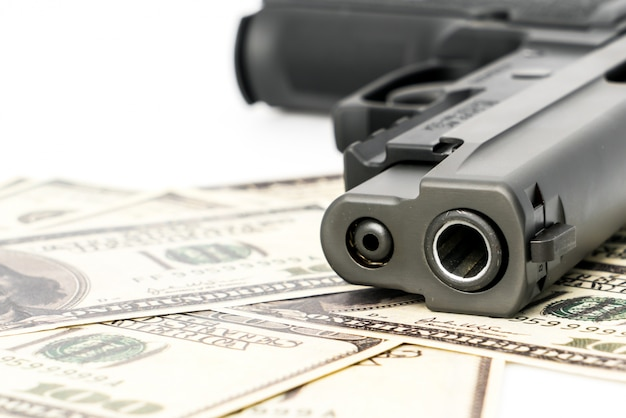gun: (228, 1, 626, 321)
